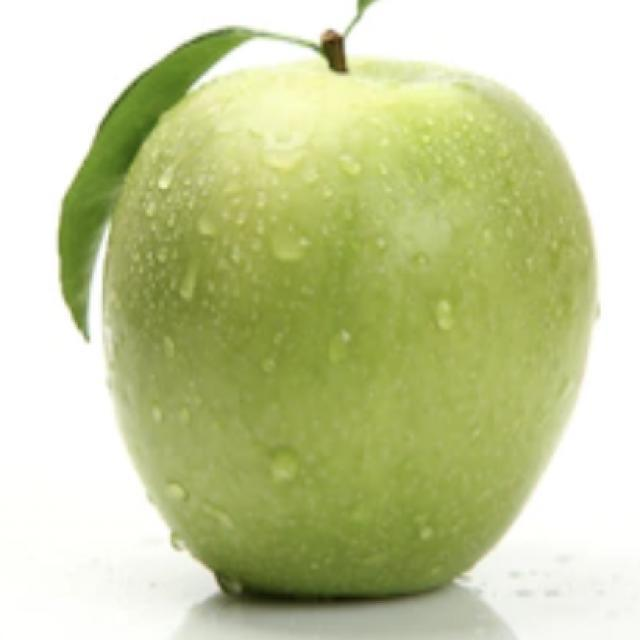Fresh Apple: (92, 43, 583, 600)
